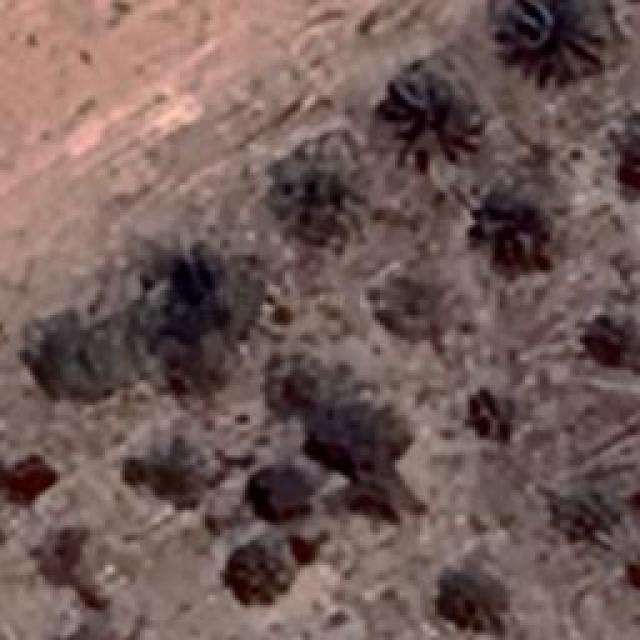PalmTree: (18, 85, 258, 569), (45, 58, 631, 158), (382, 54, 470, 158), (281, 145, 364, 243), (504, 0, 598, 78), (485, 205, 550, 278), (448, 570, 512, 640), (558, 486, 618, 549), (582, 322, 636, 378), (465, 390, 513, 442), (615, 114, 640, 205)
